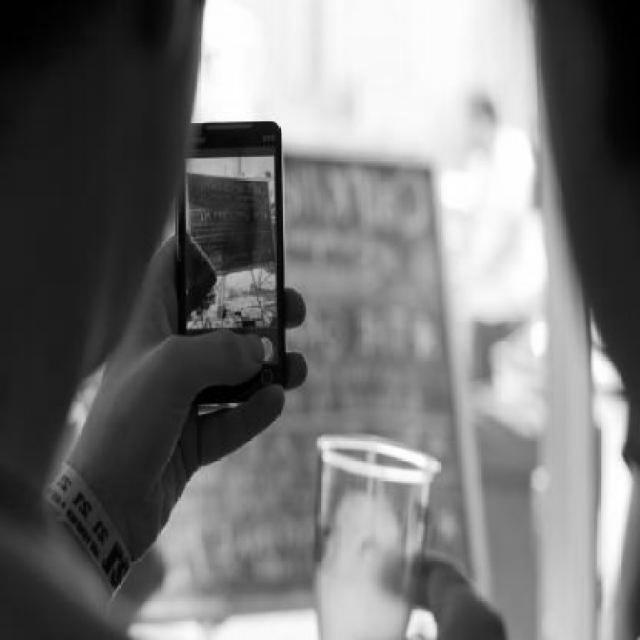fake: (164, 118, 290, 400)
